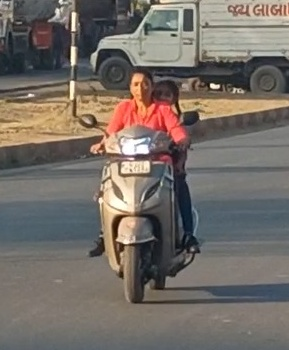BikeWithRider: (72, 65, 211, 304)
NoHelmet: (124, 66, 158, 102), (150, 75, 182, 110)
